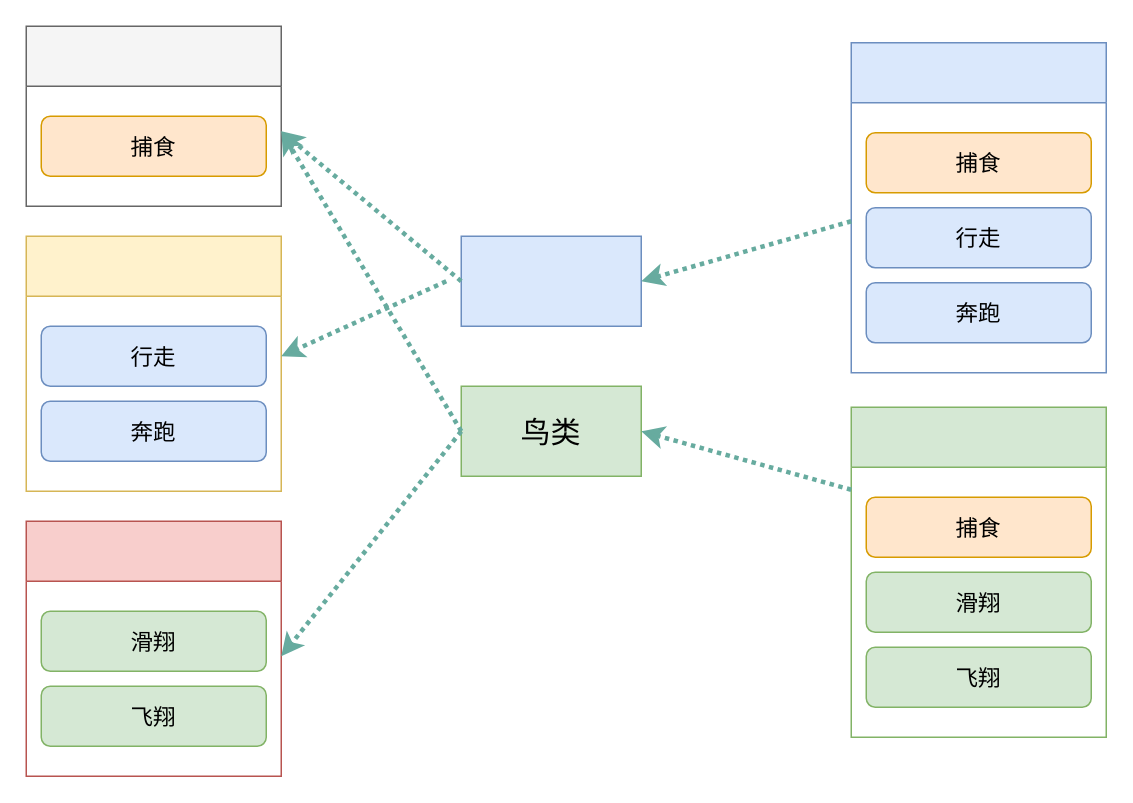
Image size: 1133x803. Some labels were removed from this diagram. The box of each missing label's shape, as (x1, y1, x2, y2) in pixels:
宠物狗类: (850, 41, 1106, 373)
接口 I: (25, 25, 281, 206)
接口 II: (25, 235, 281, 491)
接口 III: (25, 520, 281, 776)
犬科: (460, 235, 641, 326)
鸽子类: (850, 406, 1106, 737)
